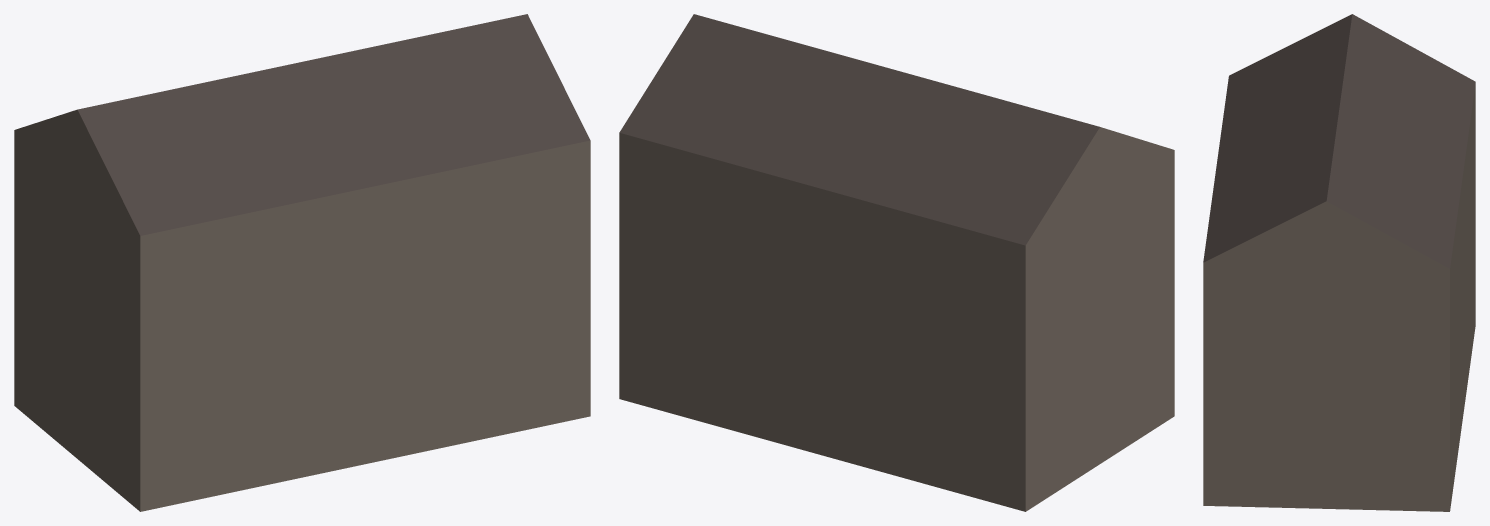
3 views of the same model, side by side, from view 1: azimuth 30°, elevation 25°; view 2: azimuth 150°, elevation 25°; view 3: azimuth 270°, elevation 25° (orthographic). The views are drawn at different scales.
Visible parts, largest first — view 1: HP-w1424106415; view 2: HP-w1424106415; view 3: HP-w1424106415.
Part boxes in pixels (box(x1,y1,x2,y2)): HP-w1424106415: box(14, 14, 590, 511); HP-w1424106415: box(619, 14, 1174, 511); HP-w1424106415: box(1203, 14, 1475, 511).
Size of the model in its own units: 10.23 by 7.6 by 6.1.
